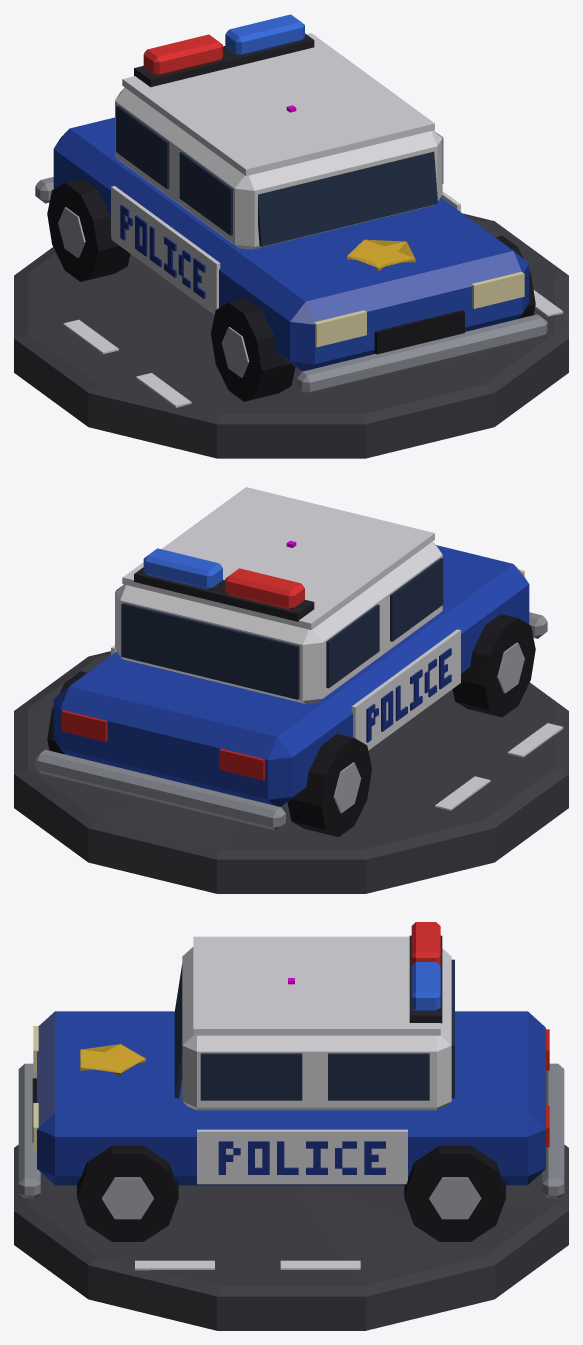
The model's file is Platform_PoliceShiba.fbx.
The picture shows the model from 3 angles, top to bottom: view 1: azimuth 30°, elevation 25°; view 2: azimuth 150°, elevation 25°; view 3: azimuth 270°, elevation 25°; orthographic projection.
Parts seen in each view (by area): view 1: Body; view 2: Body; view 3: Body.
Part boxes in pixels (x1,y1,x2,y2): Body: [14, 14, 568, 458]; Body: [14, 487, 568, 893]; Body: [14, 922, 568, 1330].
Bounding box in the file's own units: 7.63 × 3.89 × 7.63.
